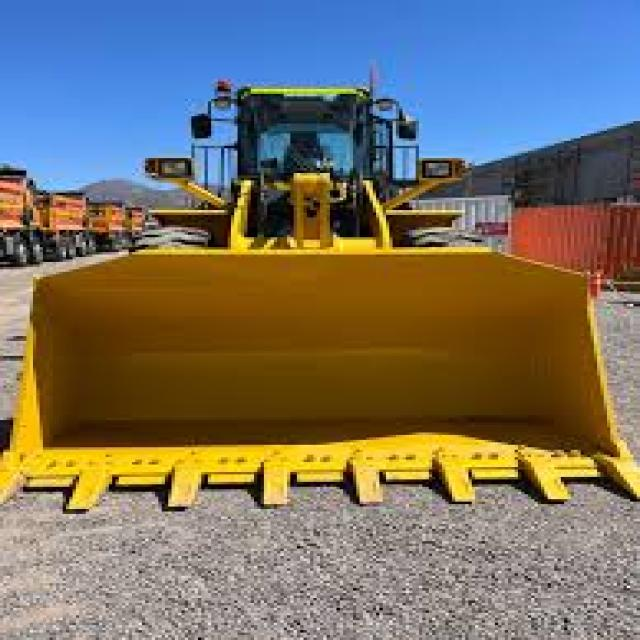buldozerpayloadergrader: (7, 76, 640, 501)
